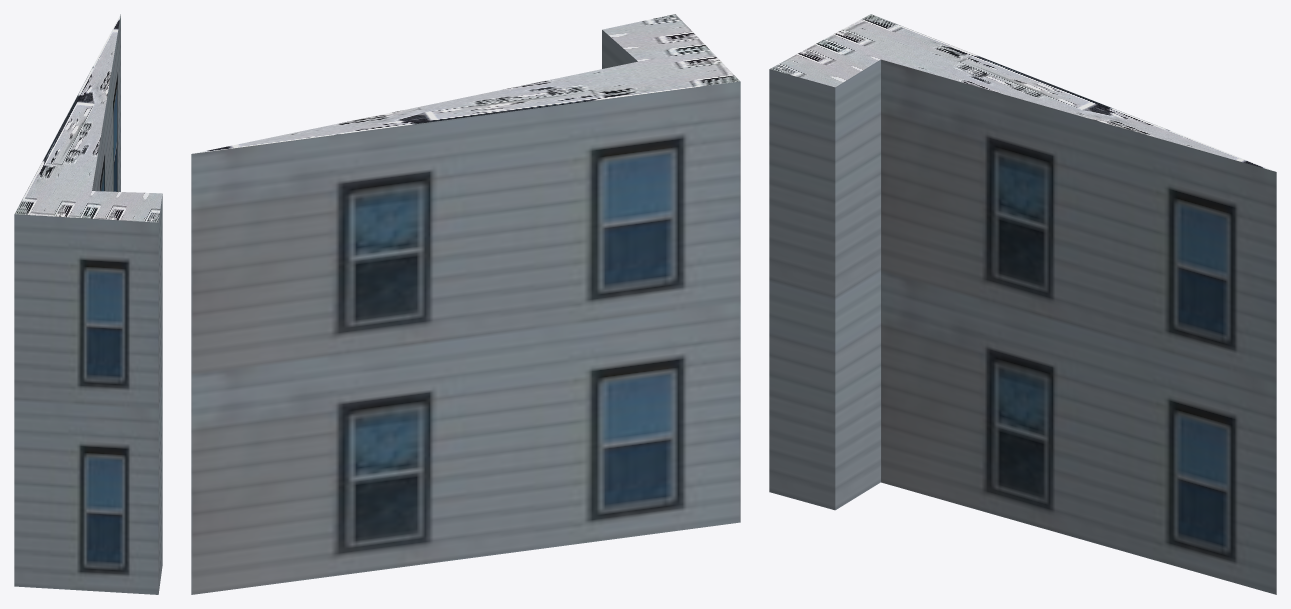
File: ResTex__3173.fbx
3 renders of one model, left to right at view 1: azimuth 30°, elevation 25°; view 2: azimuth 150°, elevation 25°; view 3: azimuth 270°, elevation 25°, orthographic. The views are drawn at different scales.
Parts seen in each view (by area): view 1: CityEngineMaterial_18_m, CityEngineMaterial_4_m; view 2: CityEngineMaterial_18_m, CityEngineMaterial_4_m; view 3: CityEngineMaterial_18_m, CityEngineMaterial_4_m.
Boxes of the visible parts, x1,y1,x2,y2 form: CityEngineMaterial_18_m: (14,14,162,594); CityEngineMaterial_4_m: (14,14,162,222); CityEngineMaterial_18_m: (191,30,740,594); CityEngineMaterial_4_m: (194,14,740,153); CityEngineMaterial_18_m: (769,59,1276,594); CityEngineMaterial_4_m: (769,14,1273,170).
Bounding box in the file's own units: 4.81 × 6 × 6.52.
Materials: 2 (2 with a texture image).
